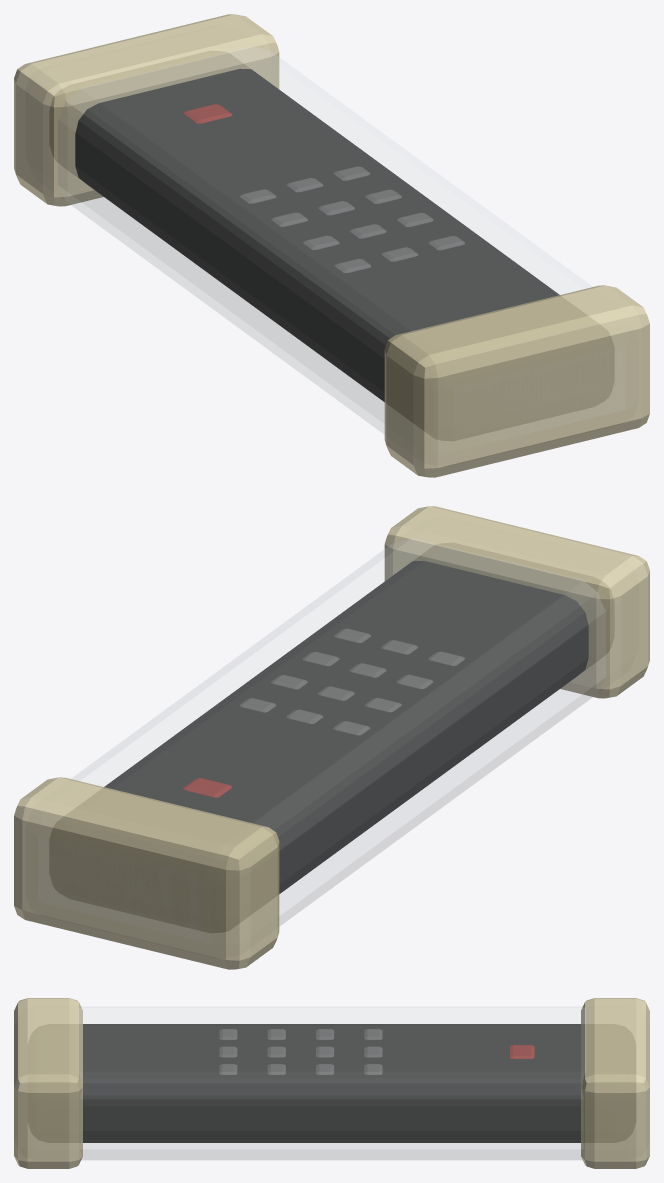
Rendered from DieuKhien.glb.
The picture shows the model from 3 angles, top to bottom: view 1: azimuth 30°, elevation 25°; view 2: azimuth 150°, elevation 25°; view 3: azimuth 270°, elevation 25°; orthographic projection. The views are drawn at different scales.
Parts seen in each view (by area): view 1: geometry_0; view 2: geometry_0; view 3: geometry_0.
Boxes of the visible parts, <box> form: geometry_0: <box>14,14,649,477</box>; geometry_0: <box>14,506,649,969</box>; geometry_0: <box>14,998,649,1168</box>.
Size of the model in its own units: 0.06 by 0.03 by 0.184.
